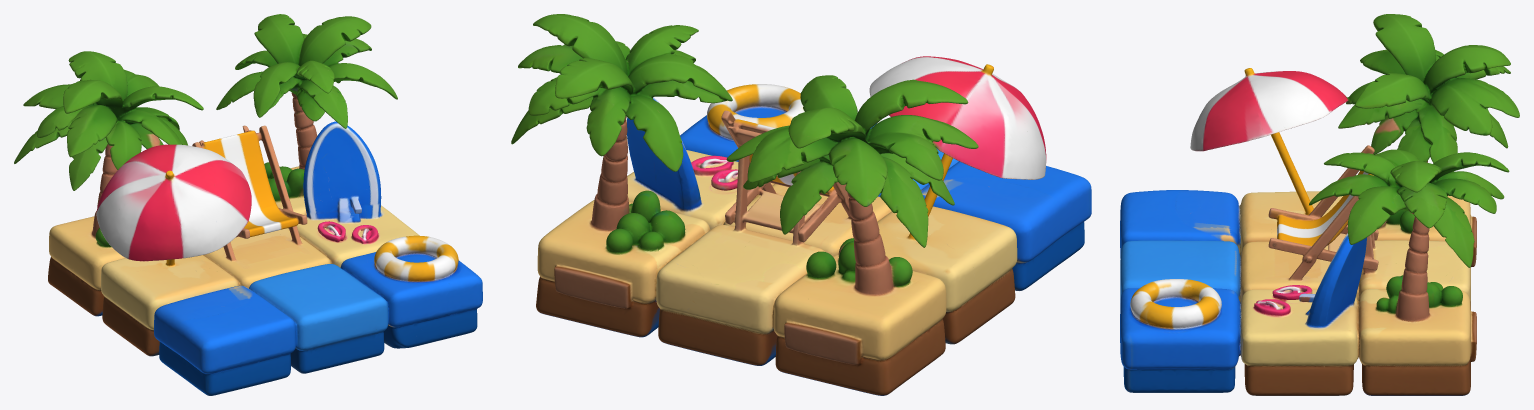
Rendered from island-beach.glb.
3 renders of one model, left to right at view 1: azimuth 30°, elevation 25°; view 2: azimuth 150°, elevation 25°; view 3: azimuth 270°, elevation 25°, orthographic. The views are drawn at different scales.
Visible parts, largest first — view 1: Meshy_AI_Tropical_Beach_Getawa_0923060649_texture; view 2: Meshy_AI_Tropical_Beach_Getawa_0923060649_texture; view 3: Meshy_AI_Tropical_Beach_Getawa_0923060649_texture.
Part boxes in pixels (x1,y1,x2,y2): Meshy_AI_Tropical_Beach_Getawa_0923060649_texture: (14, 14, 482, 395); Meshy_AI_Tropical_Beach_Getawa_0923060649_texture: (511, 14, 1091, 395); Meshy_AI_Tropical_Beach_Getawa_0923060649_texture: (1120, 14, 1519, 395).
Size of the model in its own units: 1.9 by 1.19 by 1.81.
Materials: 1 (1 with a texture image).
